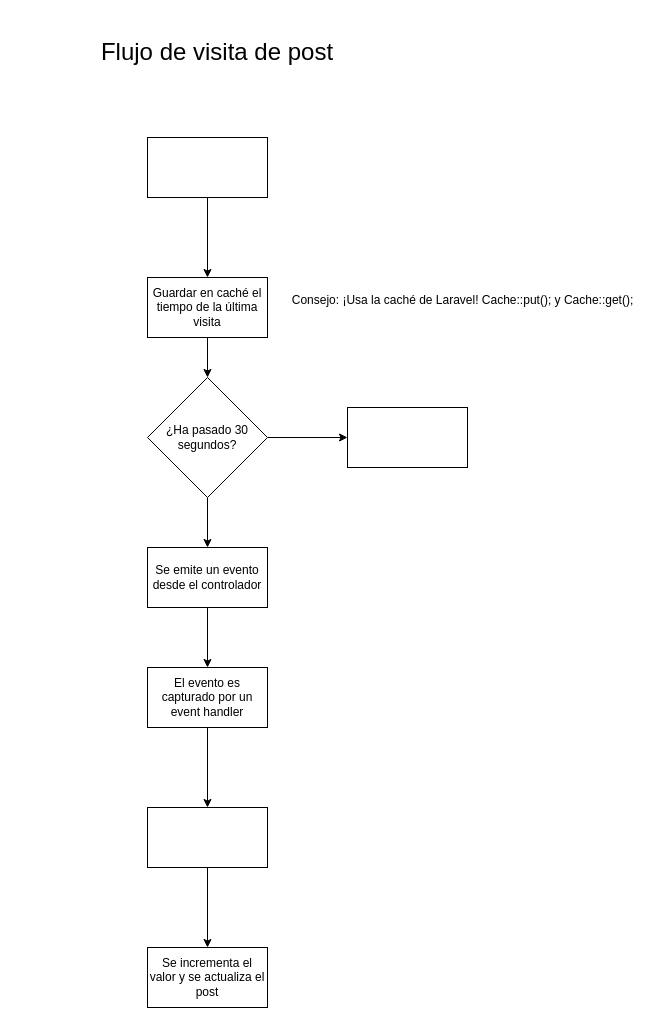
Some shapes in this 664 by 1025 pixel diagram are drawn without their labels. The shapes that lost their labels are listed below. From the top down, each one's centre as x and y in pixels, then its label:
[207,167]: Usuario visitante ingresa a un post
[407,437]: No realizar ninguna acción
[207,837]: Se obtiene la información del post al que ingresó el visitante
